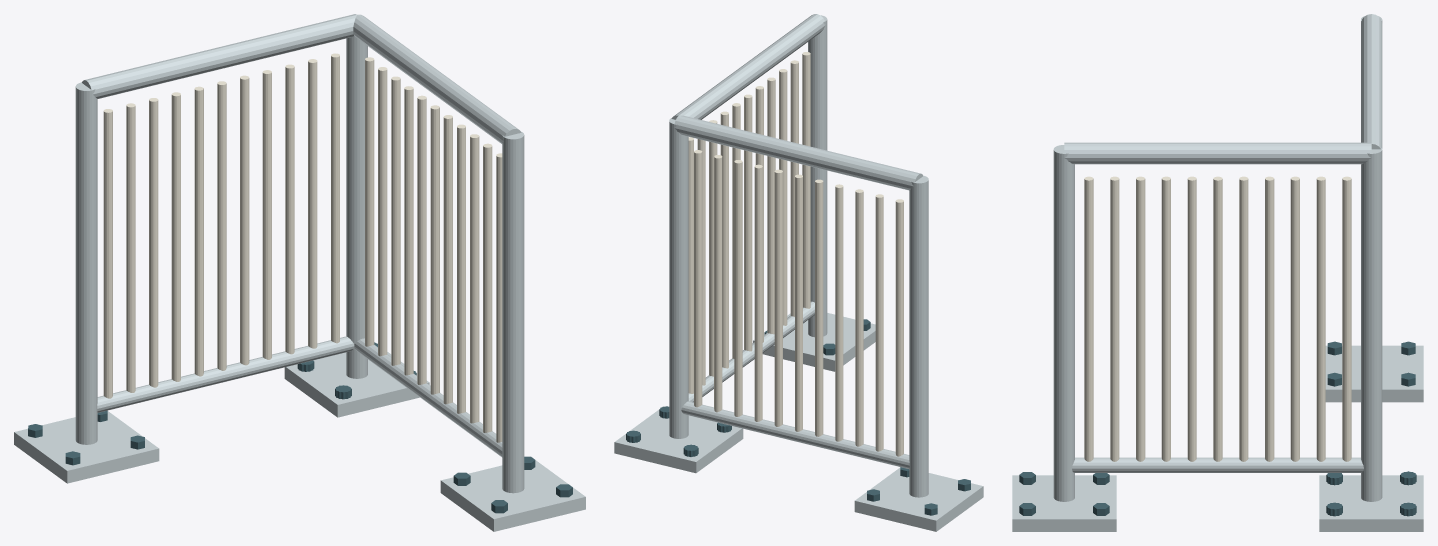
File: waterpark-and-pool-operations-waterpark-and-pool-opera-e033e55f__28981.glb
3 renders of one model, left to right at view 1: azimuth 30°, elevation 25°; view 2: azimuth 150°, elevation 25°; view 3: azimuth 270°, elevation 25°, orthographic. The views are drawn at different scales.
Visible parts, largest first — view 1: waterpark-and-pool-operations-fence-corner; view 2: waterpark-and-pool-operations-fence-corner; view 3: waterpark-and-pool-operations-fence-corner.
Boxes of the visible parts, x1,y1,x2,y2 form: waterpark-and-pool-operations-fence-corner: (14, 14, 585, 531); waterpark-and-pool-operations-fence-corner: (614, 14, 983, 531); waterpark-and-pool-operations-fence-corner: (1012, 14, 1423, 531).
Bounding box in the file's own units: 1.34 × 1.31 × 1.34.
